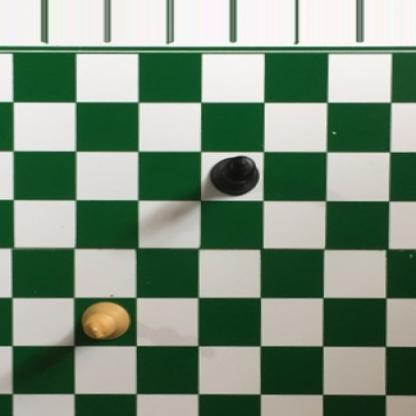black-king: (209, 155, 260, 196)
white-king: (79, 302, 131, 341)
